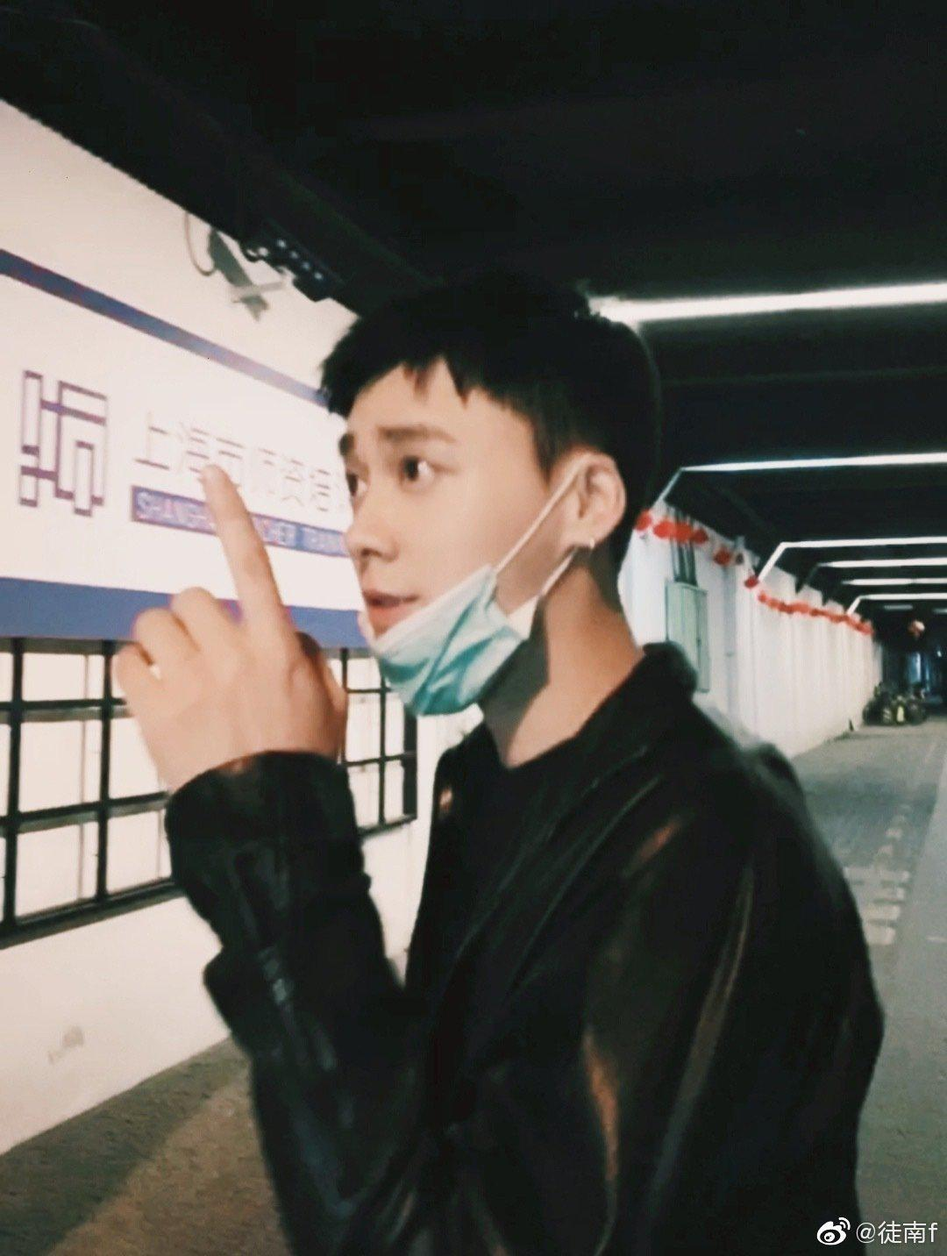WRONG: (338, 396, 527, 695)
